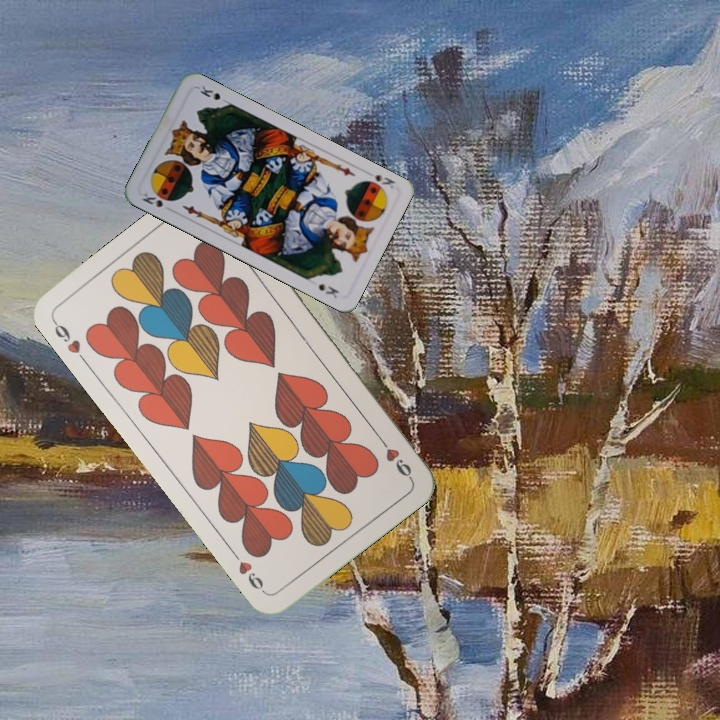H9: (373, 431, 415, 482), (48, 316, 90, 366)
SK: (138, 187, 173, 210), (371, 170, 398, 191)
